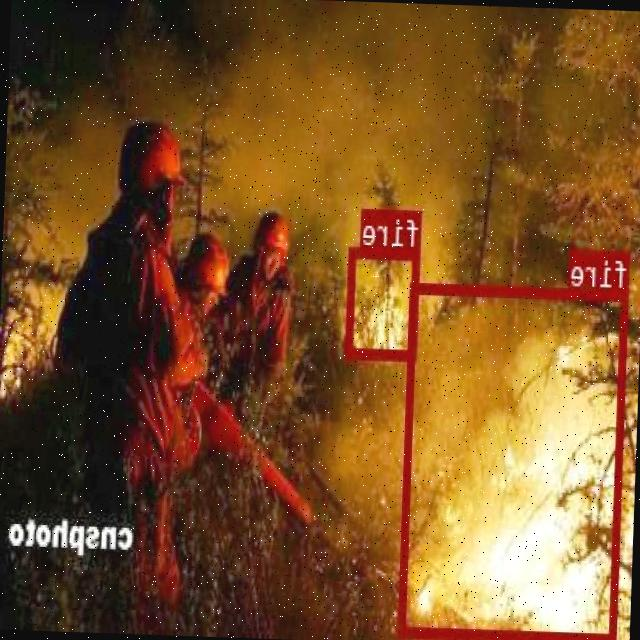fire: (399, 282, 629, 640), (346, 244, 421, 358)
